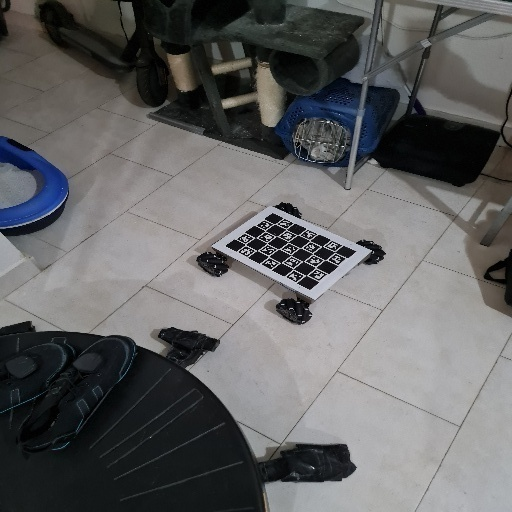Omniwheel: (197, 200, 387, 326)
